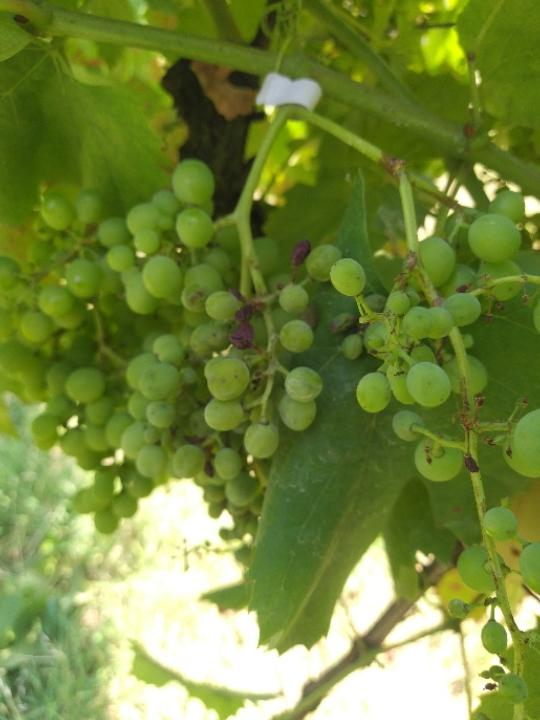grape: (97, 161, 344, 509)
